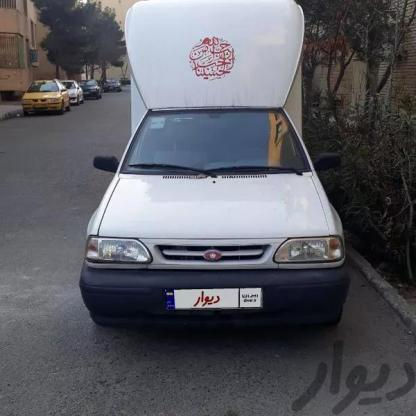Car: (78, 0, 371, 334), (23, 78, 66, 119), (80, 78, 110, 96), (64, 85, 85, 104), (107, 78, 122, 94)
